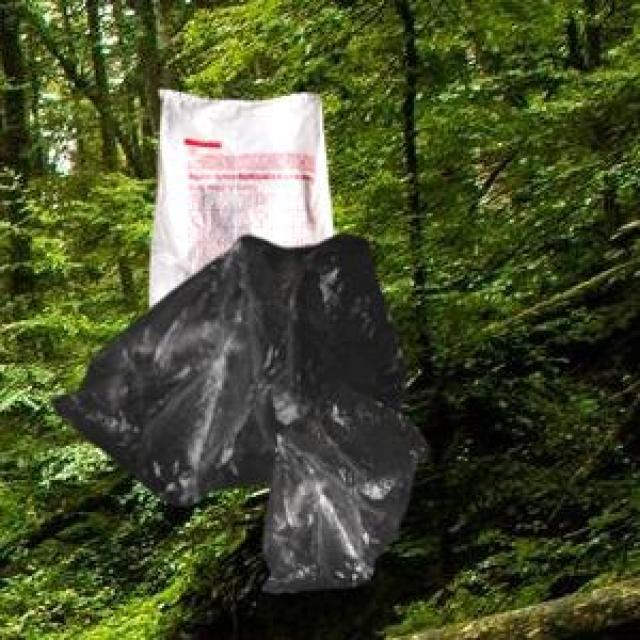waste: (56, 235, 422, 593), (150, 91, 332, 303)
